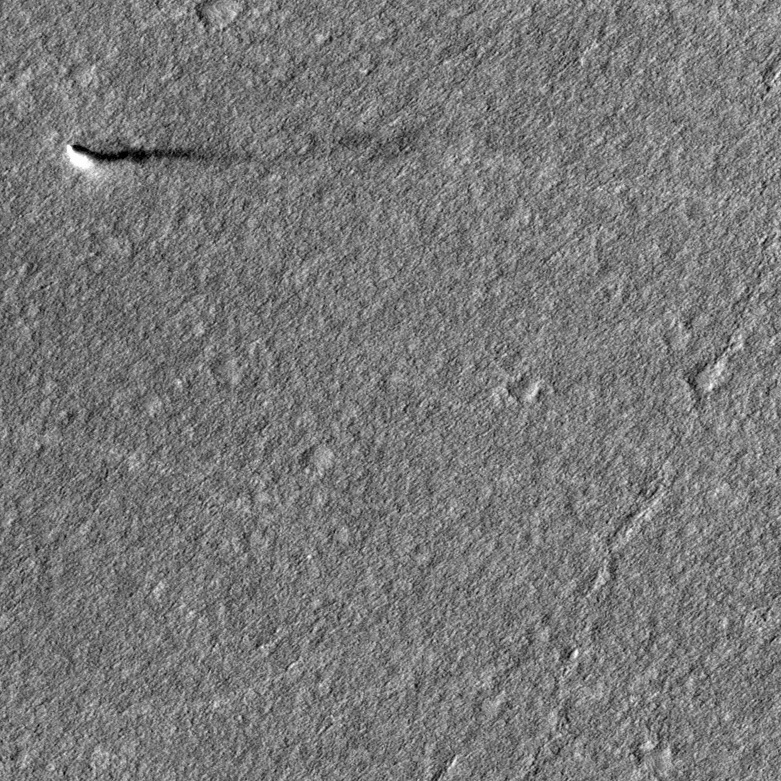dust_devil: (63, 138, 211, 179)
